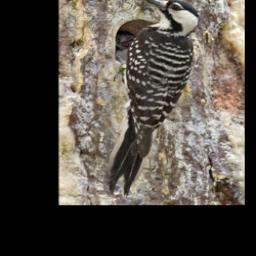Woodpecker: (105, 0, 200, 197)
